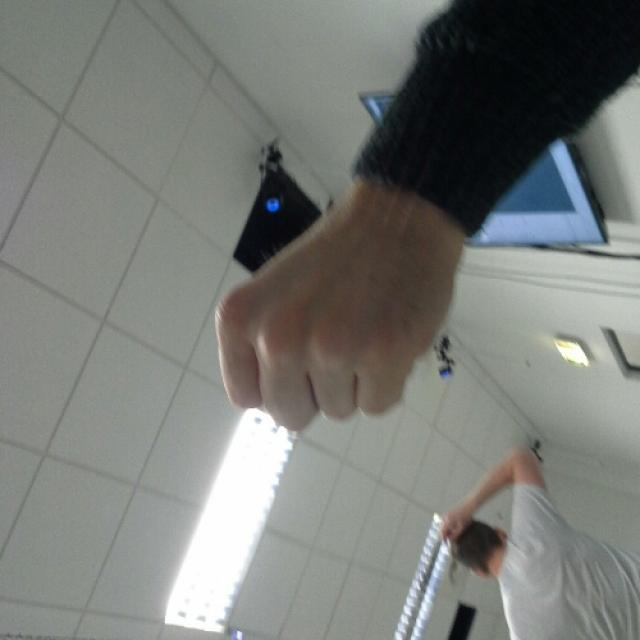fist: (217, 219, 457, 427)
